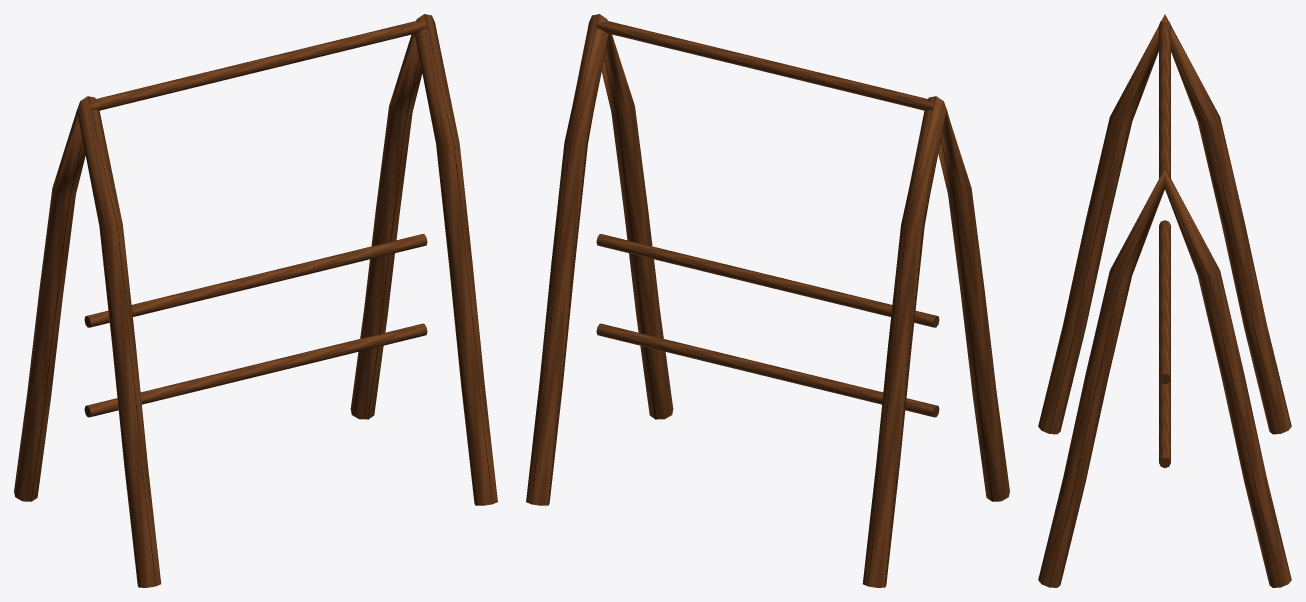
File: survival-food-and-preservation-a-frame-drying-rack-d60c00ac__21804.glb
3 views of the same model, side by side, from view 1: azimuth 30°, elevation 25°; view 2: azimuth 150°, elevation 25°; view 3: azimuth 270°, elevation 25° (orthographic). The views are drawn at different scales.
Visible parts, largest first — view 1: a-frame-drying-rack; view 2: a-frame-drying-rack; view 3: a-frame-drying-rack.
Boxes of the visible parts, bbox=[...] form: a-frame-drying-rack: bbox=[14, 14, 497, 587]; a-frame-drying-rack: bbox=[526, 14, 1009, 587]; a-frame-drying-rack: bbox=[1038, 14, 1291, 587].
Size of the model in its own units: 1.17 by 1.39 by 0.7678.
1 material, 1 textured.
